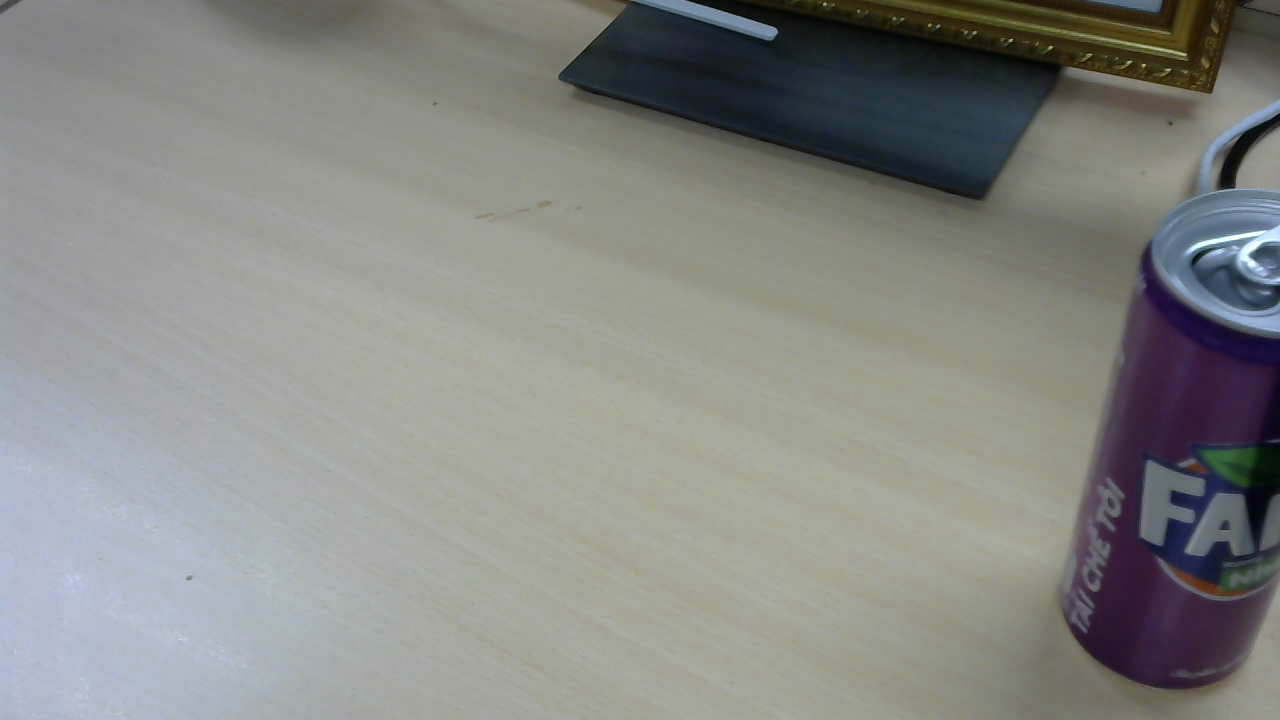Fanta: (1060, 195, 1280, 693)
